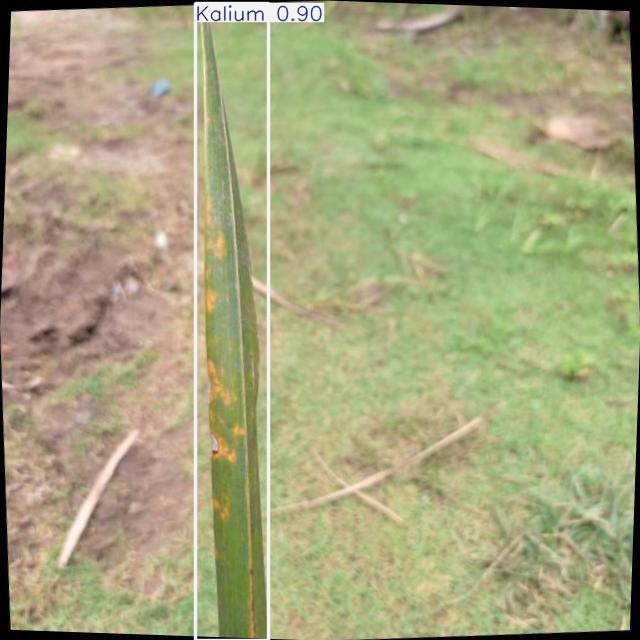Kalium: (196, 4, 269, 640)
